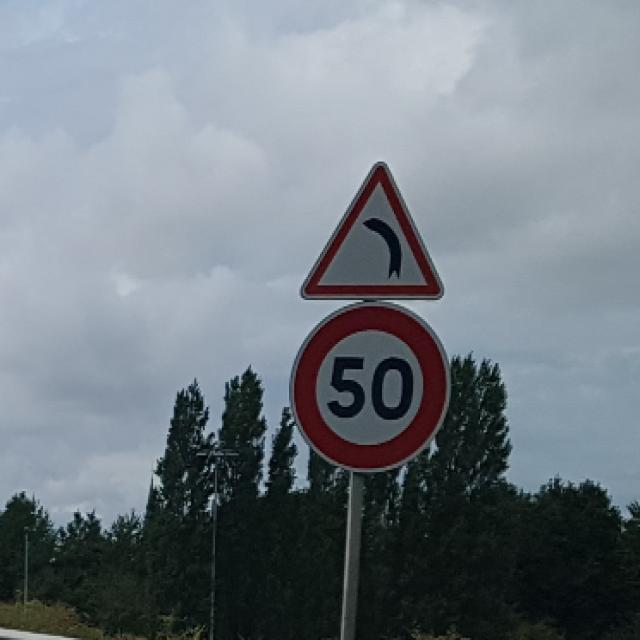speed_50: (291, 298, 451, 470)
